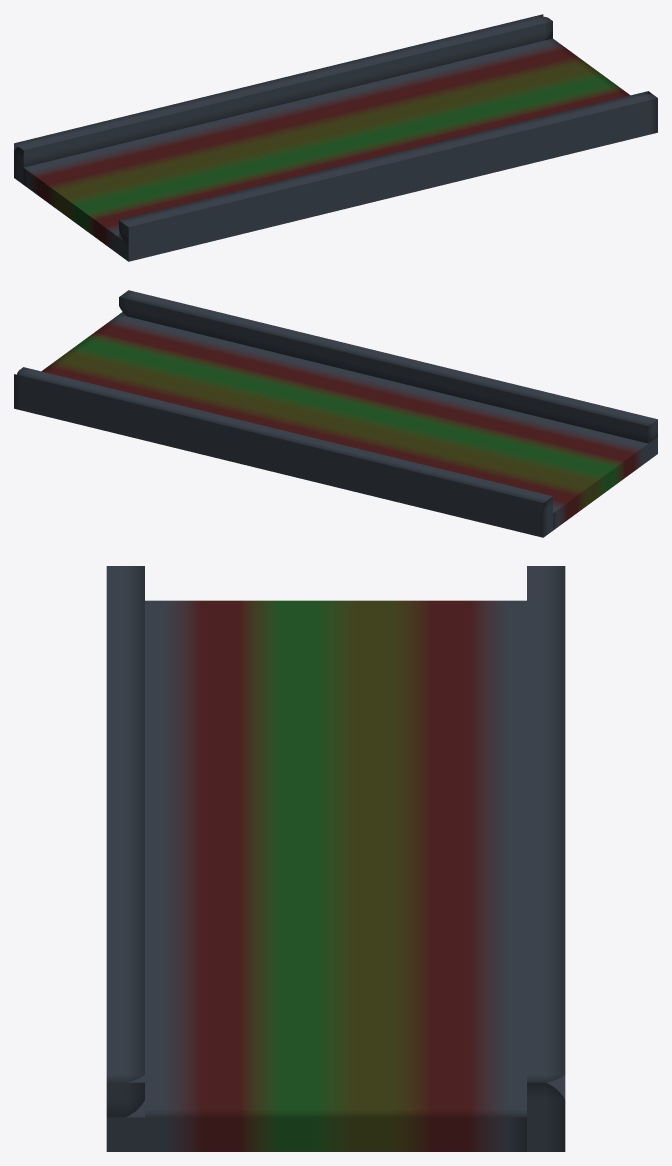
File: KABELKI.dae
3 views of the same model, one above another, from view 1: azimuth 30°, elevation 25°; view 2: azimuth 150°, elevation 25°; view 3: azimuth 270°, elevation 25° (orthographic). The views are drawn at different scales.
Parts seen in each view (by area): view 1: Content; view 2: Content; view 3: Content.
Part boxes in pixels (x1,y1,x2,y2): Content: (14,14,657,261); Content: (14,290,657,537); Content: (106,566,565,1151).
Bounding box in the file's own units: 32 × 2 × 12.
1 material, 1 textured.
